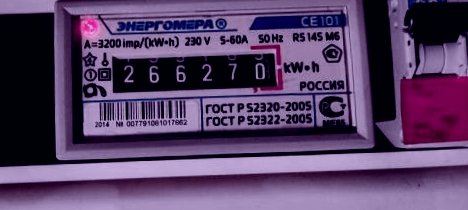0: (252, 59, 265, 81)
2: (121, 62, 135, 83), (200, 61, 212, 82)
6: (147, 63, 160, 84), (173, 63, 186, 82)
7: (224, 60, 238, 82)
screen: (101, 40, 289, 102)
